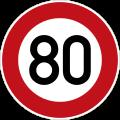Speed Limit -80-: (15, 18, 106, 103)
